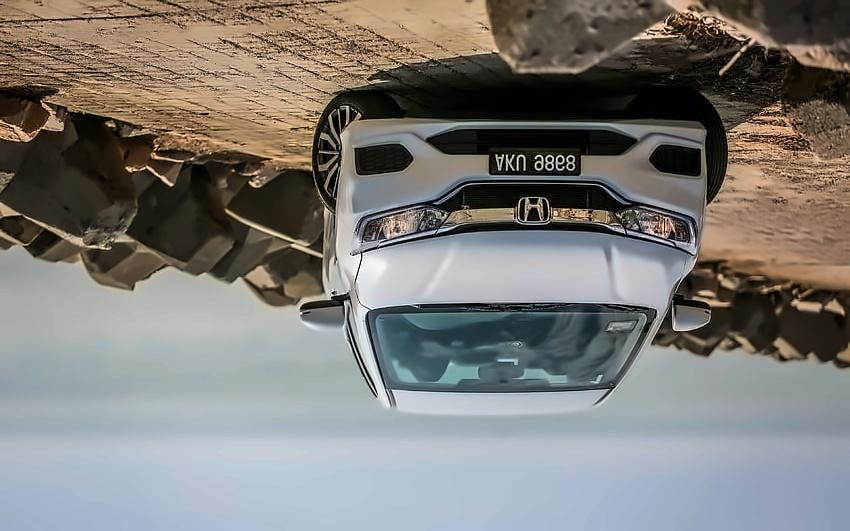Car hood: (352, 223, 692, 315)
Front bumper: (328, 111, 719, 232)
Headlight - -L-: (349, 200, 453, 254)
Headlight - -R-: (609, 203, 698, 255)
Side mirror - -L-: (294, 293, 360, 336)
Side mirror - -R-: (660, 290, 711, 337)
